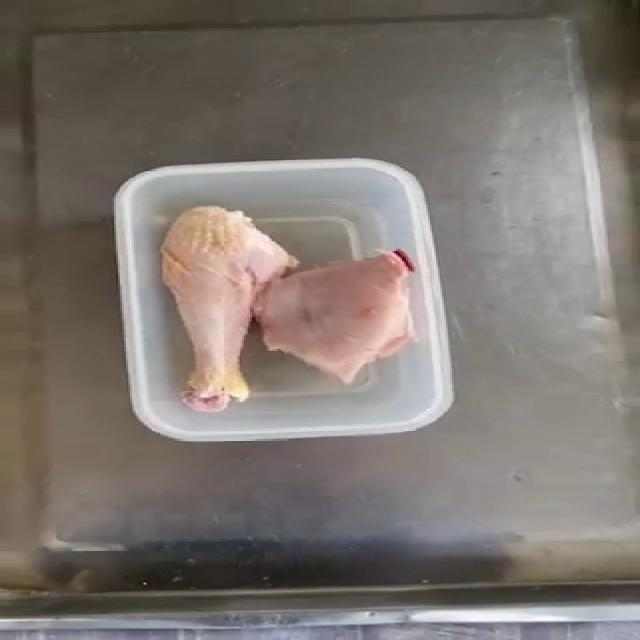chicken: (159, 204, 298, 412), (251, 247, 417, 385)
